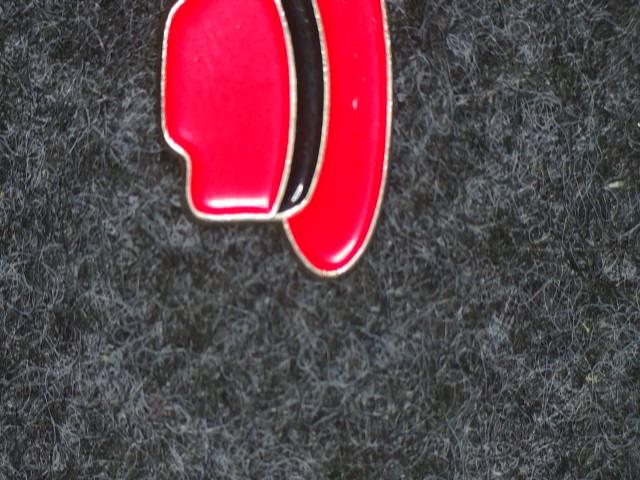Red-Hat: (141, 0, 420, 309)
